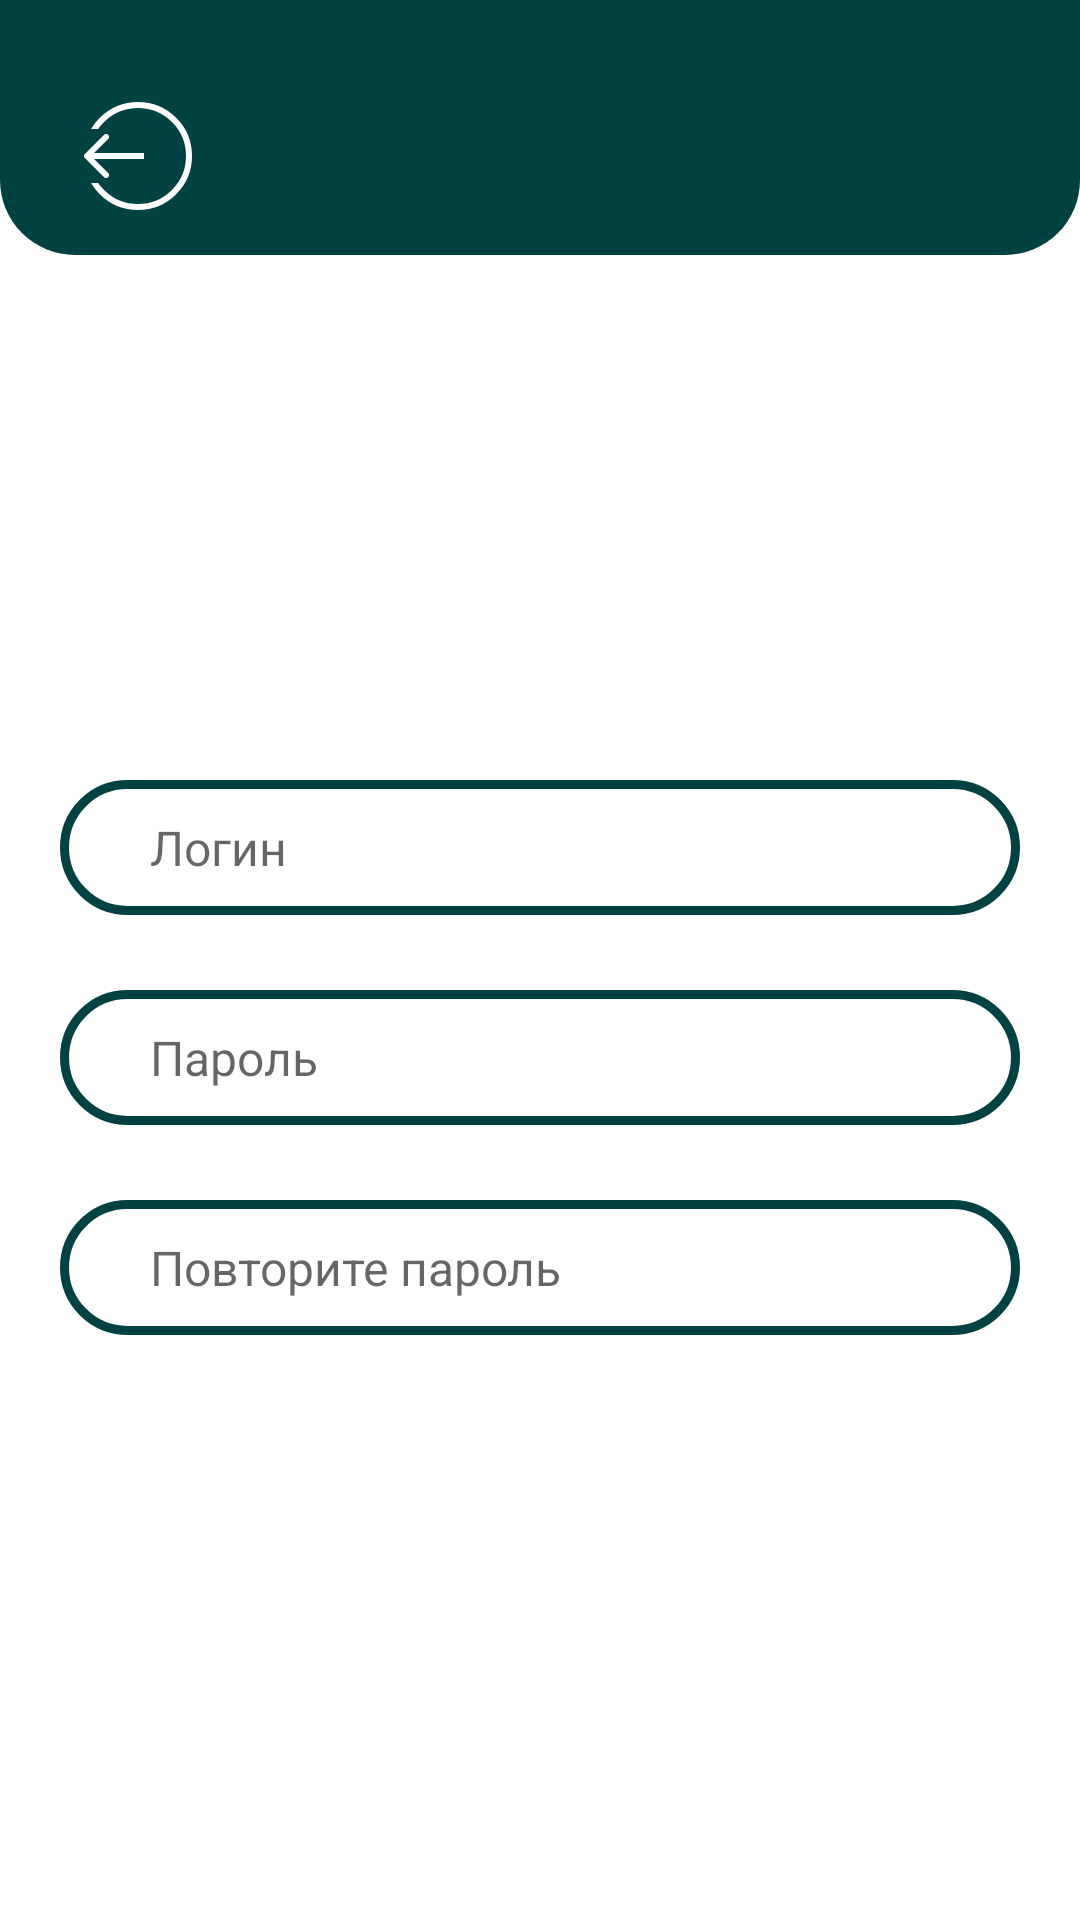

Named icons in this screenshot (1080*1920) and their bounding boxes, (x1,y1,x2,y2):
exit: (84,102,192,210)
